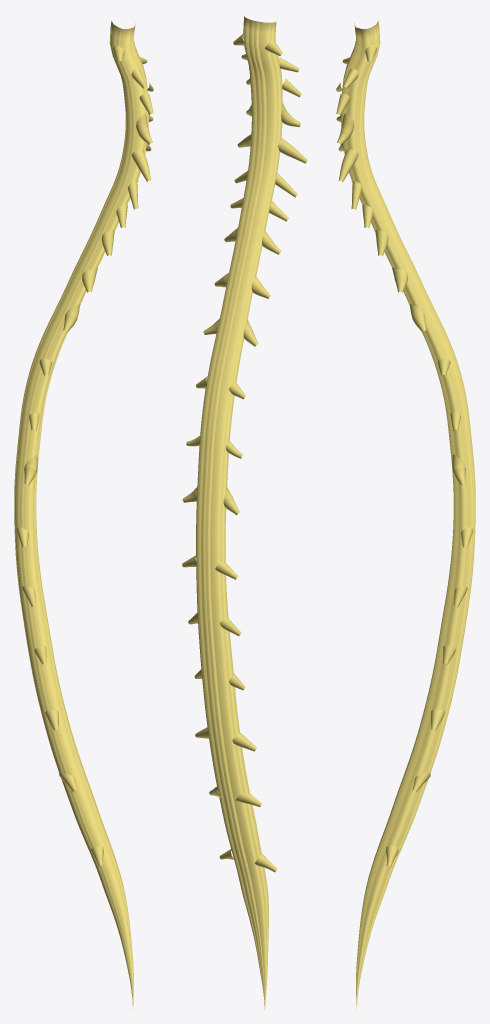
Rendered from spinal-dura.glb.
3 views of the same model, side by side, from view 1: azimuth 90°, elevation 25°; view 2: azimuth 150°, elevation 25°; view 3: azimuth 270°, elevation 25° (orthographic).
Parts seen in each view (by area): view 1: Spinal dura; view 2: Spinal dura; view 3: Spinal dura.
Part boxes in pixels (x1,y1,x2,y2): Spinal dura: [14, 21, 153, 1009]; Spinal dura: [182, 16, 307, 1009]; Spinal dura: [336, 20, 475, 1009].
Bounding box in the file's own units: 0.0358 × 0.4906 × 0.0627.
